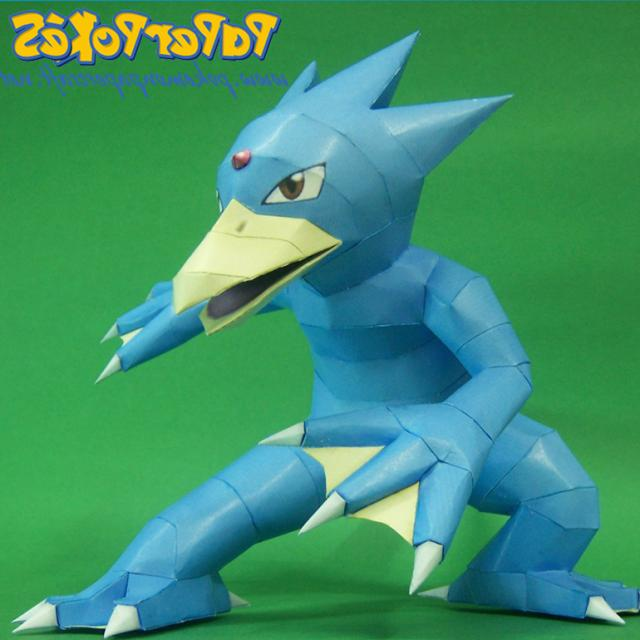Golduck: (114, 66, 536, 636)
